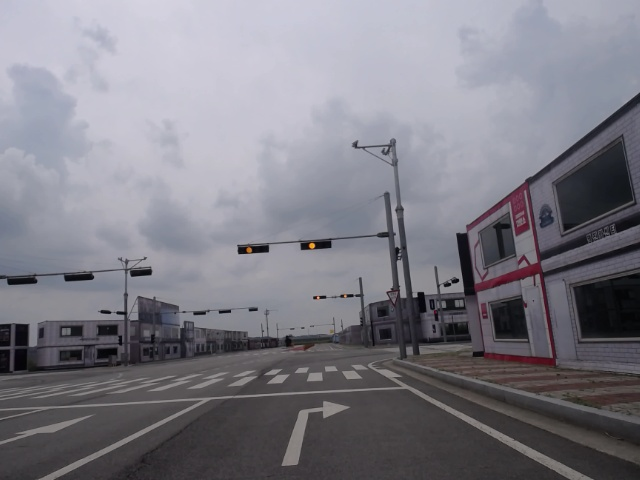orange_4: (235, 243, 270, 255), (300, 240, 334, 250), (311, 294, 330, 300), (338, 292, 355, 298)
